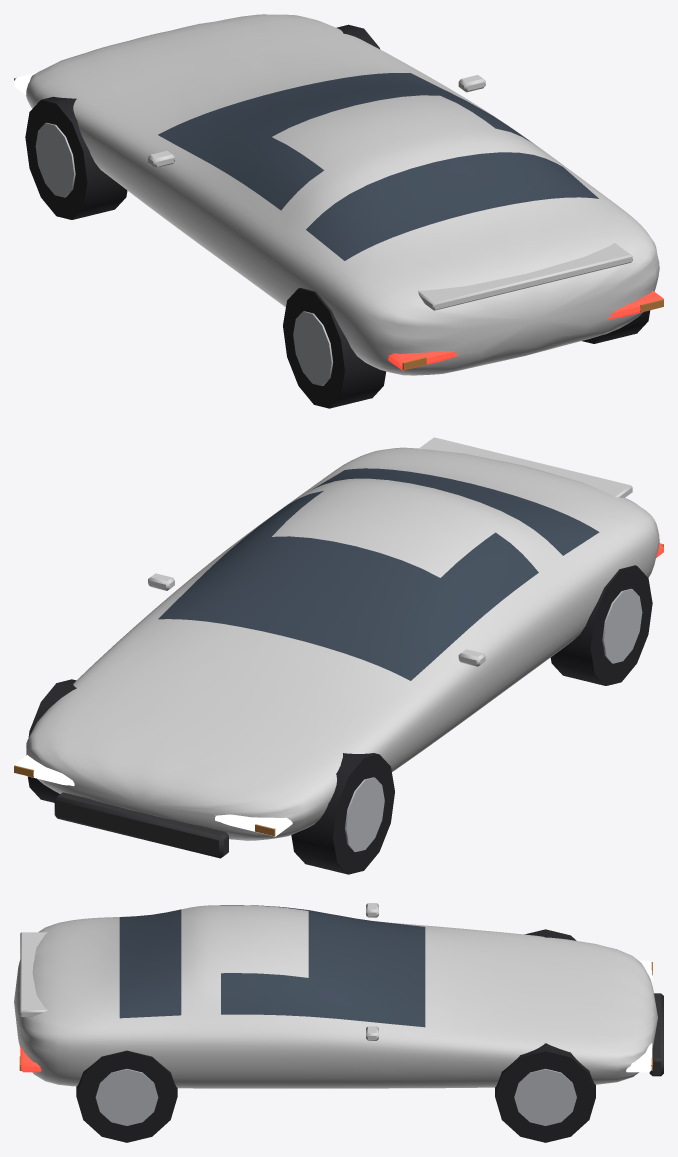
The model's file is auto_freq_sport_lod2.glb.
3 views of the same model, one above another, from view 1: azimuth 30°, elevation 25°; view 2: azimuth 150°, elevation 25°; view 3: azimuth 270°, elevation 25° (orthographic). The views are drawn at different scales.
Visible parts, largest first — view 1: Karosserie, Rad_VL, Rad_HL, Rad_HR; view 2: Karosserie, Rad_VL, Rad_HL, Rad_VR; view 3: Karosserie, Rad_VR, Rad_HR.
Boxes of the visible parts, bbox=[...] form: Karosserie: bbox=[14, 14, 663, 375]; Rad_VL: bbox=[25, 96, 127, 219]; Rad_HL: bbox=[283, 288, 385, 408]; Rad_HR: bbox=[582, 310, 650, 343]; Karosserie: bbox=[14, 437, 663, 858]; Rad_VL: bbox=[291, 753, 394, 874]; Rad_HL: bbox=[550, 565, 652, 685]; Rad_VR: bbox=[27, 679, 76, 802]; Karosserie: bbox=[14, 903, 663, 1088]; Rad_VR: bbox=[495, 1043, 595, 1142]; Rad_HR: bbox=[76, 1050, 177, 1142].
Bounding box in the file's own units: 2.16 × 1.17 × 4.5.
